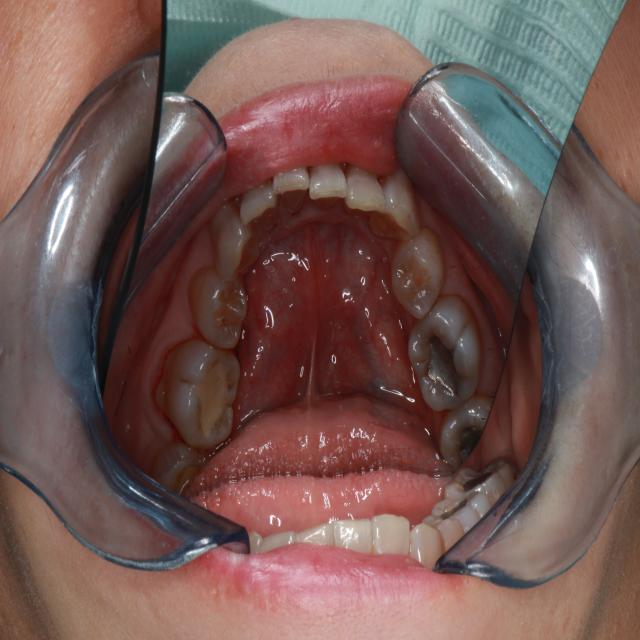tooth: (152, 326, 243, 456), (400, 290, 485, 418), (185, 256, 253, 354), (385, 221, 449, 323), (429, 384, 503, 472), (206, 197, 261, 290), (145, 427, 211, 504), (365, 162, 423, 247), (344, 157, 390, 223), (237, 176, 282, 238), (306, 154, 349, 212), (272, 157, 312, 219)
